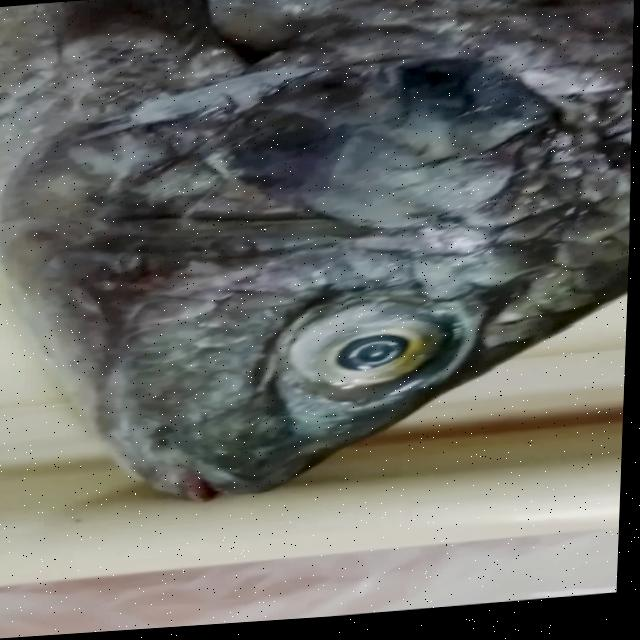Non-Fresh: (239, 261, 506, 447)
